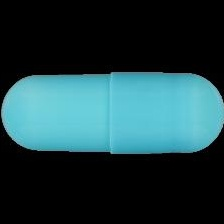57844-215: (0, 0, 224, 224)
